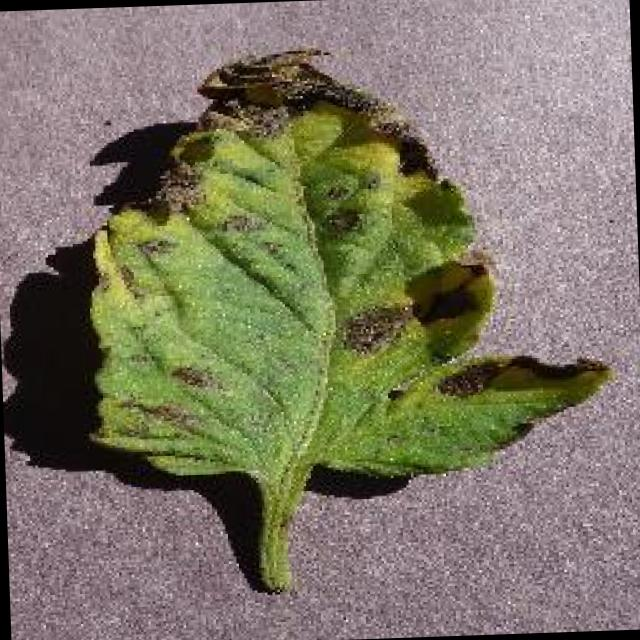Tomato_Early_Blight: (70, 32, 618, 506)
